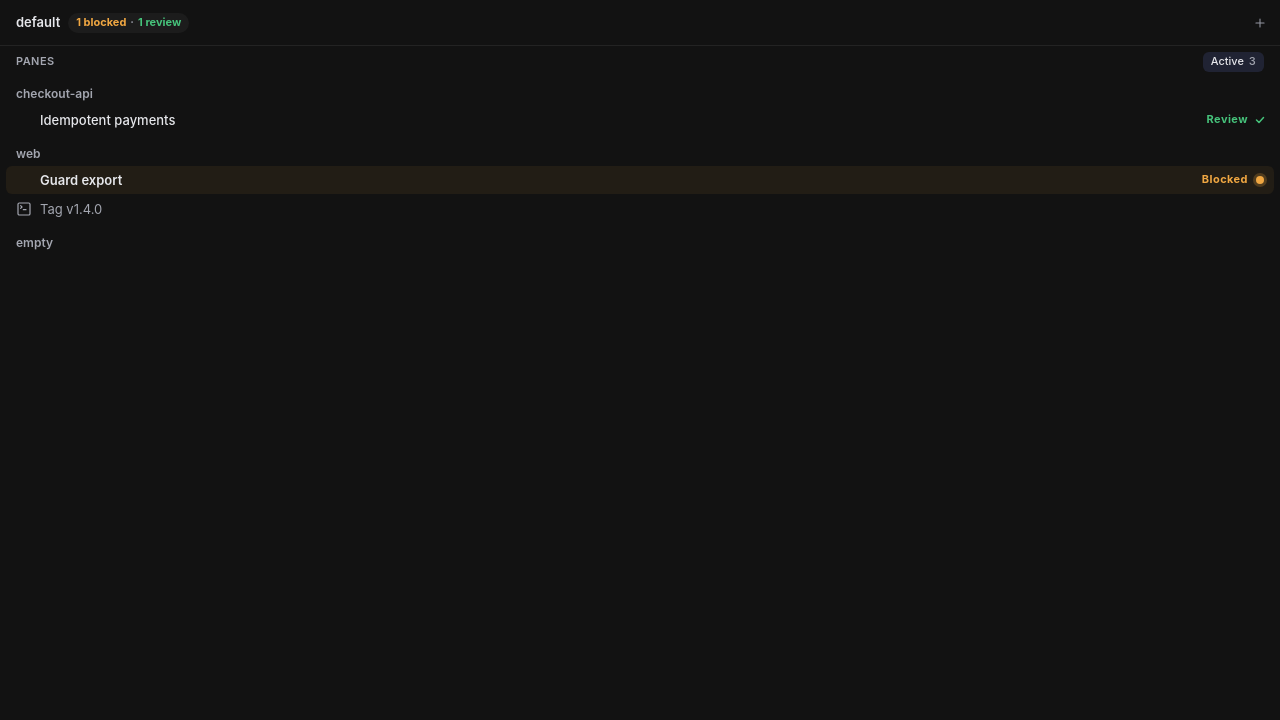
Scenario: AgentList › closing a pane with work running › asks before closing an agent waiting for the user, from the menu too
Right-click the text "Guard export".
right_click(81, 180)  # box [40, 172, 122, 188]
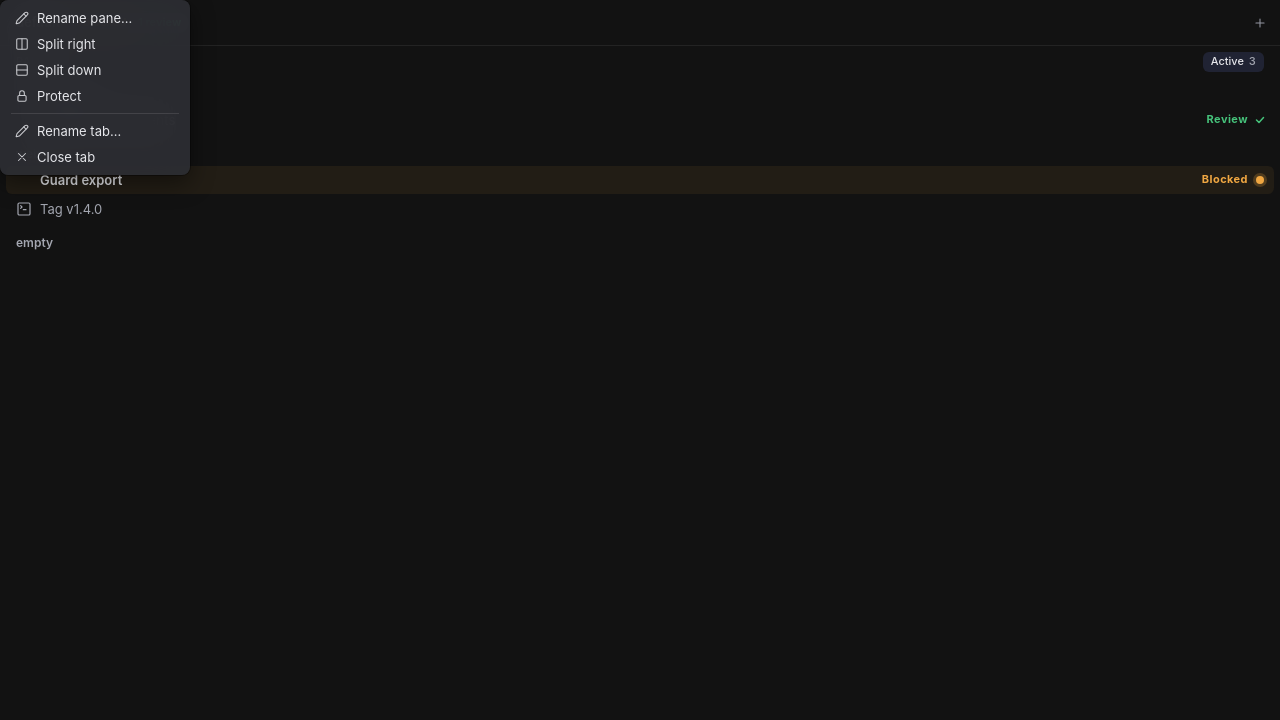
Click the menu item "Close tab".
click(95, 157)  # box [5, 144, 185, 170]
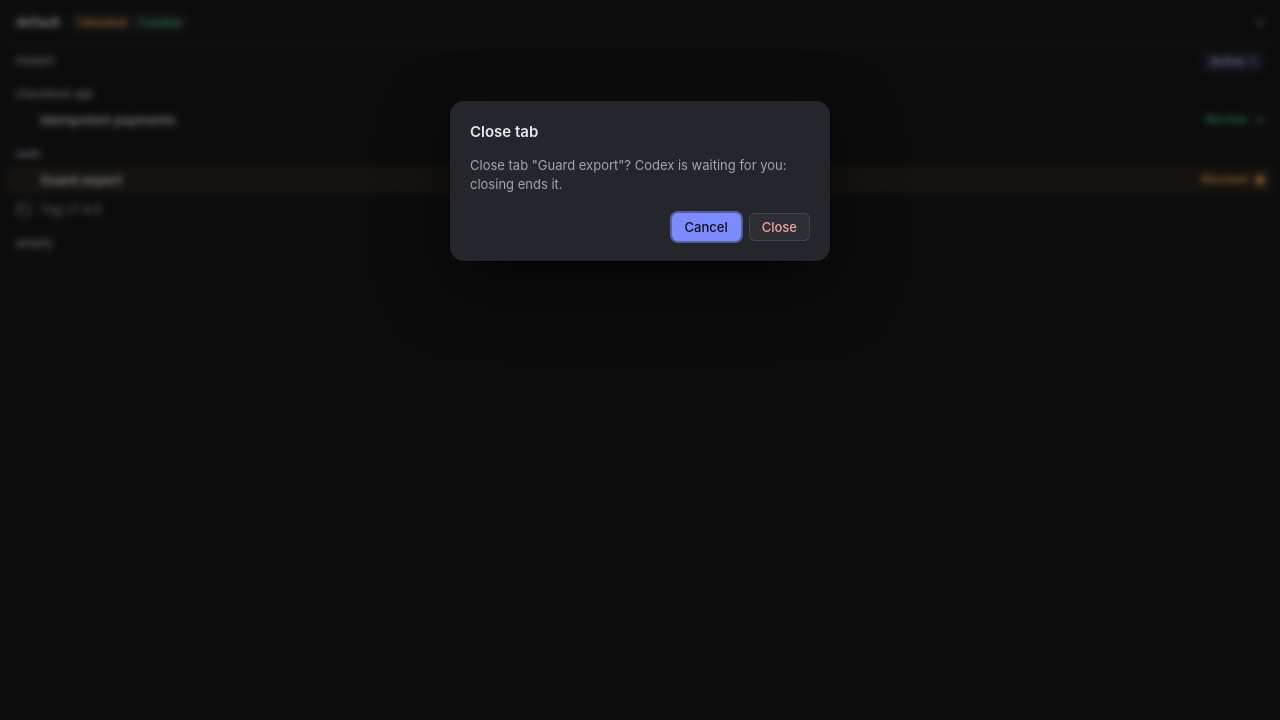
Result: the text "Close tab \"Guard export\"? Codex is waiting for you: closing ends it." is shown at [470, 156, 810, 195]
